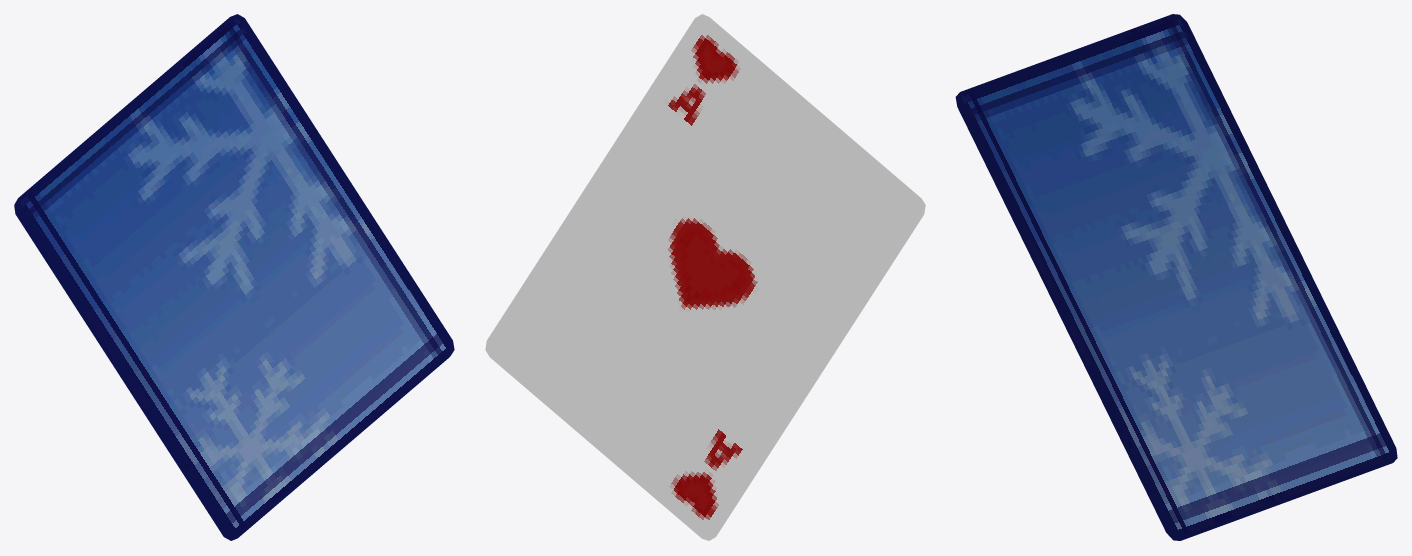
The model's file is ps2_save-icons_tennisnoouji-samakissofprinceice.glb.
The picture shows the model from 3 angles, left to right: view 1: azimuth 30°, elevation 25°; view 2: azimuth 150°, elevation 25°; view 3: azimuth 330°, elevation 25°; orthographic projection.
Visible parts, largest first — view 1: icon.ico; view 2: icon.ico; view 3: icon.ico.
Boxes of the visible parts, bbox=[...] form: icon.ico: bbox=[14, 14, 454, 540]; icon.ico: bbox=[485, 14, 925, 540]; icon.ico: bbox=[955, 14, 1397, 540].
Bounding box in the file's own units: 4.34 × 4.95 × 0.0239.
Materials: 1 (1 with a texture image).
